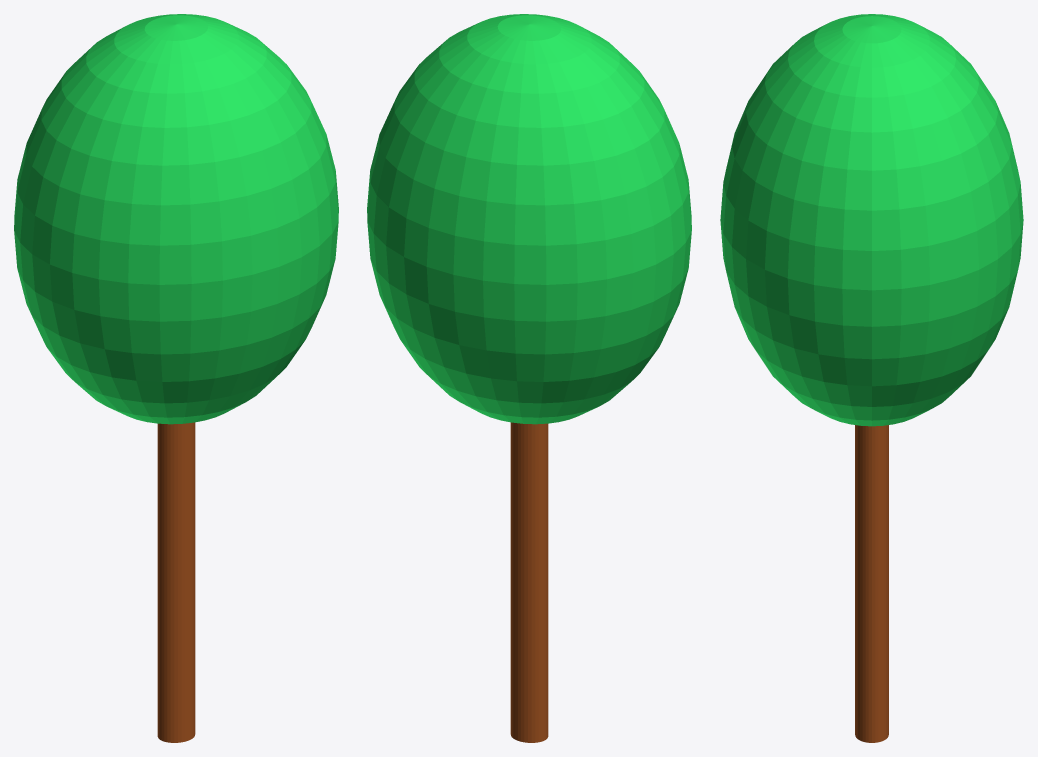
File: tree.glb
3 views of the same model, side by side, from view 1: azimuth 30°, elevation 25°; view 2: azimuth 150°, elevation 25°; view 3: azimuth 270°, elevation 25° (orthographic).
Parts seen in each view (by area): view 1: Sphere, Cylinder; view 2: Sphere, Cylinder; view 3: Sphere, Cylinder.
Boxes of the visible parts, x1,y1,x2,y2 form: Sphere: (14, 14, 338, 424); Cylinder: (157, 422, 195, 742); Sphere: (367, 14, 691, 424); Cylinder: (510, 422, 548, 742); Sphere: (720, 14, 1023, 426); Cylinder: (855, 425, 888, 742).
Size of the model in its own units: 1.38 by 3.25 by 1.26.
